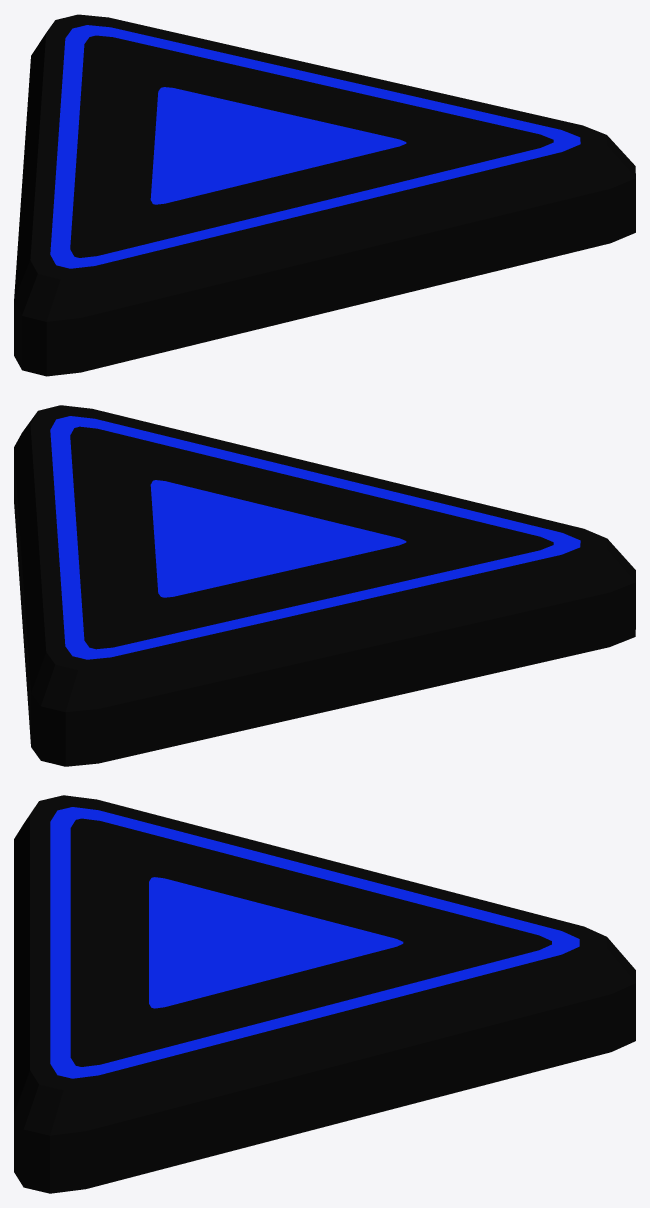
Rendered from Attachment_Mover.fbx.
3 renders of one model, top to bottom at view 1: azimuth 30°, elevation 25°; view 2: azimuth 150°, elevation 25°; view 3: azimuth 270°, elevation 25°, orthographic. The views are drawn at different scales.
Visible parts, largest first — view 1: Attachment_Mover; view 2: Attachment_Mover; view 3: Attachment_Mover.
Part boxes in pixels (x1=…): Attachment_Mover: x1=14, y1=14, x2=635, y2=376; Attachment_Mover: x1=14, y1=405, x2=635, y2=766; Attachment_Mover: x1=14, y1=795, x2=635, y2=1193.
Bounding box in the file's own units: 0.6117 × 0.0823 × 0.5054.
